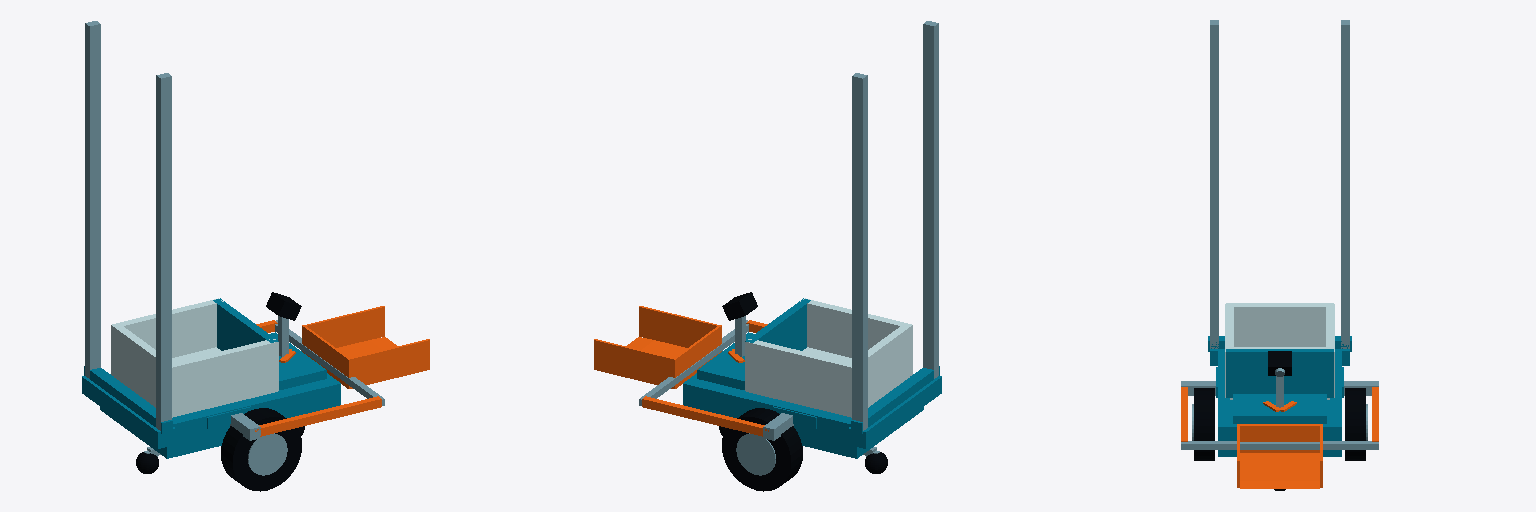
URDF robot description (collector_basket_lift_v2):
<?xml version='1.0' encoding='utf8'?>
<robot name="collector_basket_lift_v2">
  <material name="body">
    <color rgba="0.03 0.53 0.65 1" />
  </material>
  <material name="basket">
    <color rgba="0.80 0.91 0.93 1" />
  </material>
  <material name="orange">
    <color rgba="1.0 0.44 0.10 1" />
  </material>
  <material name="rubber">
    <color rgba="0.045 0.06 0.08 1" />
  </material>
  <material name="hub">
    <color rgba="0.50 0.65 0.70 1" />
  </material>
  <link name="base_link">
    <inertial>
      <origin xyz="-0.025 0 0" />
      <mass value="7.0" />
      <inertia ixx="0.087" ixy="0" ixz="0" iyy="0.184" iyz="0" izz="0.256" />
    </inertial>
    <visual name="chassis">
      <origin xyz="0 0 -0.025" />
      <geometry>
        <box size="0.55 0.37 0.10" />
      </geometry>
      <material name="body" />
    </visual>
    <collision name="chassis_collision">
      <origin xyz="0 0 -0.025" />
      <geometry>
        <box size="0.55 0.37 0.10" />
      </geometry>
    </collision>
    <visual name="arm_pivot_shaft">
      <origin xyz="-0.06 0 -0.005" />
      <geometry>
        <box size="0.035 0.59 0.035" />
      </geometry>
      <material name="hub" />
    </visual>
    <visual name="front_deck">
      <origin xyz="0.18 0 0.035" />
      <geometry>
        <box size="0.15 0.28 0.035" />
      </geometry>
      <material name="body" />
    </visual>
    <visual name="camera_stand">
      <origin xyz="0.20 0 0.11" />
      <geometry>
        <box size="0.022 0.022 0.14" />
      </geometry>
      <material name="hub" />
    </visual>
    <visual name="onboard_camera">
      <origin xyz="0.20 0 0.20" rpy="0 0.48869219 0" />
      <geometry>
        <box size="0.06 0.07 0.045" />
      </geometry>
      <material name="rubber" />
    </visual>
    <visual name="camera_lens">
      <origin xyz="0.231 0 0.1835" rpy="0 2.05948852 0" />
      <geometry>
        <cylinder radius="0.014" length="0.012" />
      </geometry>
      <material name="hub" />
    </visual>
    <visual name="direction_arrow_left">
      <origin xyz="0.20 0.023 0.057" rpy="0 0 -0.60" />
      <geometry>
        <box size="0.07 0.018 0.006" />
      </geometry>
      <material name="orange" />
    </visual>
    <visual name="direction_arrow_right">
      <origin xyz="0.20 -0.023 0.057" rpy="0 0 0.60" />
      <geometry>
        <box size="0.07 0.018 0.006" />
      </geometry>
      <material name="orange" />
    </visual>
  </link>
  <link name="left_wheel">
    <inertial>
      <mass value="0.35" />
      <inertia ixx="0.00118" ixy="0" ixz="0" iyy="0.00212" iyz="0" izz="0.00118" />
    </inertial>
    <visual>
      <origin rpy="1.57079632679 0 0" />
      <geometry>
        <cylinder radius="0.11" length="0.065" />
      </geometry>
      <material name="rubber" />
    </visual>
    <visual>
      <origin xyz="0 0.034 0" rpy="1.57079632679 0 0" />
      <geometry>
        <cylinder radius="0.062" length="0.004" />
      </geometry>
      <material name="hub" />
    </visual>
    <collision>
      <origin rpy="1.57079632679 0 0" />
      <geometry>
        <mesh filename="wheel_collision_128.obj" scale="1 1 1" />
      </geometry>
    </collision>
  </link>
  <joint name="left_wheel_joint" type="continuous">
    <parent link="base_link" />
    <child link="left_wheel" />
    <origin xyz="0 0.225 -0.095" />
    <axis xyz="0 1 0" />
    <limit effort="12" velocity="14" />
    <dynamics damping="0.05" friction="0.01" />
  </joint>
  <link name="right_wheel">
    <inertial>
      <mass value="0.35" />
      <inertia ixx="0.00118" ixy="0" ixz="0" iyy="0.00212" iyz="0" izz="0.00118" />
    </inertial>
    <visual>
      <origin rpy="1.57079632679 0 0" />
      <geometry>
        <cylinder radius="0.11" length="0.065" />
      </geometry>
      <material name="rubber" />
    </visual>
    <visual>
      <origin xyz="0 -0.034 0" rpy="1.57079632679 0 0" />
      <geometry>
        <cylinder radius="0.062" length="0.004" />
      </geometry>
      <material name="hub" />
    </visual>
    <collision>
      <origin rpy="1.57079632679 0 0" />
      <geometry>
        <mesh filename="wheel_collision_128.obj" scale="1 1 1" />
      </geometry>
    </collision>
  </link>
  <joint name="right_wheel_joint" type="continuous">
    <parent link="base_link" />
    <child link="right_wheel" />
    <origin xyz="0 -0.225 -0.095" />
    <axis xyz="0 1 0" />
    <limit effort="12" velocity="14" />
    <dynamics damping="0.05" friction="0.01" />
  </joint>
  <link name="shovel_arm">
    <inertial>
      <origin xyz="0.20 0 0" />
      <mass value="0.55" />
      <inertia ixx="0.0447" ixy="0" ixz="0" iyy="0.00735" iyz="0" izz="0.052" />
    </inertial>
    <visual name="left_arm">
      <origin xyz="0.20 0.285 0" />
      <geometry>
        <box size="0.40 0.02 0.025" />
      </geometry>
      <material name="orange" />
    </visual>
    <collision name="left_arm_collision">
      <origin xyz="0.20 0.285 0" />
      <geometry>
        <box size="0.40 0.02 0.025" />
      </geometry>
    </collision>
    <visual name="right_arm">
      <origin xyz="0.20 -0.285 0" />
      <geometry>
        <box size="0.40 0.02 0.025" />
      </geometry>
      <material name="orange" />
    </visual>
    <collision name="right_arm_collision">
      <origin xyz="0.20 -0.285 0" />
      <geometry>
        <box size="0.40 0.02 0.025" />
      </geometry>
    </collision>
    <visual name="bucket_pivot_shaft">
      <origin xyz="0.40 0 0" />
      <geometry>
        <box size="0.02 0.59 0.02" />
      </geometry>
      <material name="hub" />
    </visual>
  </link>
  <joint name="shovel_lift_joint" type="revolute">
    <parent link="base_link" />
    <child link="shovel_arm" />
    <origin xyz="-0.06 0 -0.005" />
    <axis xyz="0 -1 0" />
    <limit lower="-0.48" upper="2.25" effort="14" velocity="1.5" />
    <dynamics damping="0.08" friction="0.01" />
  </joint>
  <link name="shovel_bucket">
    <inertial>
      <origin xyz="0.12 0 0.005" />
      <mass value="0.30" />
      <inertia ixx="0.0020" ixy="0" ixz="0" iyy="0.0020" iyz="0" izz="0.0032" />
    </inertial>
    <visual name="shovel_floor">
      <origin xyz="0 0 0" />
      <geometry>
        <mesh filename="collector_beveled_floor.obj" scale="1 1 1" />
      </geometry>
      <material name="orange" />
    </visual>
    <collision name="shovel_floor_collision">
      <origin xyz="0 0 0" />
      <geometry>
        <mesh filename="collector_beveled_floor.obj" scale="1 1 1" />
      </geometry>
    </collision>
    <visual name="shovel_back">
      <origin xyz="-0.004 0 0.020" />
      <geometry>
        <box size="0.008 0.256 0.09" />
      </geometry>
      <material name="orange" />
    </visual>
    <collision name="shovel_back_collision">
      <origin xyz="-0.004 0 0.020" />
      <geometry>
        <box size="0.008 0.256 0.09" />
      </geometry>
    </collision>
    <visual name="shovel_left">
      <origin xyz="0.125 0.124 0.020" />
      <geometry>
        <box size="0.25 0.008 0.09" />
      </geometry>
      <material name="orange" />
    </visual>
    <collision name="shovel_left_collision">
      <origin xyz="0.125 0.124 0.020" />
      <geometry>
        <box size="0.25 0.008 0.09" />
      </geometry>
    </collision>
    <visual name="shovel_right">
      <origin xyz="0.125 -0.124 0.020" />
      <geometry>
        <box size="0.25 0.008 0.09" />
      </geometry>
      <material name="orange" />
    </visual>
    <collision name="shovel_right_collision">
      <origin xyz="0.125 -0.124 0.020" />
      <geometry>
        <box size="0.25 0.008 0.09" />
      </geometry>
    </collision>
  </link>
  <joint name="shovel_tilt_joint" type="revolute">
    <parent link="shovel_arm" />
    <child link="shovel_bucket" />
    <origin xyz="0.40 0 0" />
    <axis xyz="0 -1 0" />
    <limit lower="-3.10" upper="0.85" effort="8" velocity="2.0" />
    <dynamics damping="0.04" friction="0.005" />
  </joint>
  <link name="front_caster_fork">
    <inertial>
      <origin xyz="-0.01 0 -0.015" />
      <mass value="0.02" />
      <inertia ixx="1e-05" ixy="0" ixz="0" iyy="1e-05" iyz="0" izz="1e-05" />
    </inertial>
    <visual>
      <origin xyz="-0.01 0 -0.015" />
      <geometry>
        <box size="0.035 0.018 0.035" />
      </geometry>
      <material name="hub" />
    </visual>
  </link>
  <joint name="front_caster_yaw" type="continuous">
    <parent link="front_caster_suspension_carrier" />
    <child link="front_caster_fork" />
    <origin xyz="0 0 0" />
    <axis xyz="0 0 1" />
    <limit effort="0.2" velocity="100" />
    <dynamics damping="0.0001" friction="0" />
  </joint>
  <link name="front_caster_wheel">
    <inertial>
      <origin xyz="0 0 0" />
      <mass value="0.04" />
      <inertia ixx="1.64e-05" ixy="0" ixz="0" iyy="1.64e-05" iyz="0" izz="1.64e-05" />
    </inertial>
    <visual>
      <geometry>
        <sphere radius="0.032" />
      </geometry>
      <material name="rubber" />
    </visual>
    <collision>
      <geometry>
        <sphere radius="0.032" />
      </geometry>
    </collision>
  </link>
  <joint name="front_caster_roll" type="continuous">
    <parent link="front_caster_fork" />
    <child link="front_caster_wheel" />
    <origin xyz="-0.02 0 -0.030" />
    <axis xyz="0 1 0" />
    <limit effort="0.2" velocity="100" />
    <dynamics damping="0.0001" friction="0" />
  </joint>
  <link name="rear_caster_fork">
    <inertial>
      <origin xyz="-0.01 0 -0.015" />
      <mass value="0.02" />
      <inertia ixx="1e-05" ixy="0" ixz="0" iyy="1e-05" iyz="0" izz="1e-05" />
    </inertial>
    <visual>
      <origin xyz="-0.01 0 -0.015" />
      <geometry>
        <box size="0.035 0.018 0.035" />
      </geometry>
      <material name="hub" />
    </visual>
  </link>
  <joint name="rear_caster_yaw" type="continuous">
    <parent link="rear_caster_suspension_carrier" />
    <child link="rear_caster_fork" />
    <origin xyz="0 0 0" />
    <axis xyz="0 0 1" />
    <limit effort="0.2" velocity="100" />
    <dynamics damping="0.0001" friction="0" />
  </joint>
  <link name="rear_caster_wheel">
    <inertial>
      <origin xyz="0 0 0" />
      <mass value="0.04" />
      <inertia ixx="1.64e-05" ixy="0" ixz="0" iyy="1.64e-05" iyz="0" izz="1.64e-05" />
    </inertial>
    <visual>
      <geometry>
        <sphere radius="0.032" />
      </geometry>
      <material name="rubber" />
    </visual>
    <collision>
      <geometry>
        <sphere radius="0.032" />
      </geometry>
    </collision>
  </link>
  <joint name="rear_caster_roll" type="continuous">
    <parent link="rear_caster_fork" />
    <child link="rear_caster_wheel" />
    <origin xyz="-0.02 0 -0.030" />
    <axis xyz="0 1 0" />
    <limit effort="0.2" velocity="100" />
    <dynamics damping="0.0001" friction="0" />
  </joint>
  <link name="refill_mast">
    <inertial>
      <origin xyz="-.29 0 .55" />
      <mass value="1.0" />
      <inertia ixx="0.11260833333333335" iyy="0.09760833333333334" izz="0.015816666666666663" ixy="0" ixz="0" iyz="0" />
    </inertial>
    <visual name="mast_visual">
      <origin xyz="-0.29 -0.195 0.55" />
      <geometry>
        <box size="0.035 0.025 1.08" />
      </geometry>
      <material name="hub" />
    </visual>
    <collision name="mast_collision">
      <origin xyz="-0.29 -0.195 0.55" />
      <geometry>
        <box size="0.035 0.025 1.08" />
      </geometry>
    </collision>
    <visual name="mast_visual">
      <origin xyz="-0.29 0.195 0.55" />
      <geometry>
        <box size="0.035 0.025 1.08" />
      </geometry>
      <material name="hub" />
    </visual>
    <collision name="mast_collision">
      <origin xyz="-0.29 0.195 0.55" />
      <geometry>
        <box size="0.035 0.025 1.08" />
      </geometry>
    </collision>
    <visual name="base_brace_visual">
      <origin xyz="-0.29 0 0.035" />
      <geometry>
        <box size="0.035 0.43 0.035" />
      </geometry>
      <material name="body" />
    </visual>
    <collision name="base_brace_collision">
      <origin xyz="-0.29 0 0.035" />
      <geometry>
        <box size="0.035 0.43 0.035" />
      </geometry>
    </collision>
  </link>
  <joint name="refill_mast_fixed" type="fixed">
    <parent link="base_link" />
    <child link="refill_mast" />
    <origin xyz="0 0 0" />
  </joint>
  <link name="refill_carriage">
    <inertial>
      <origin xyz="-.21 0 -.04" />
      <mass value="0.12" />
      <inertia ixx="0.0017889999999999998" iyy="5e-05" izz="0.0017889999999999998" ixy="0" ixz="0" iyz="0" />
    </inertial>
    <visual name="carriage_visual">
      <origin xyz="-0.21 0 -0.04" />
      <geometry>
        <box size="0.055 0.42 0.05" />
      </geometry>
      <material name="body" />
    </visual>
  </link>
  <joint name="refill_lift_joint" type="prismatic">
    <parent link="base_link" />
    <child link="refill_carriage" />
    <origin xyz="-0.08 0 0.04" />
    <axis xyz="0 0 1" />
    <limit lower="0" upper="1.04" effort="120" velocity="0.16" />
    <dynamics damping=".1" friction="0" />
  </joint>
  <link name="refill_slide">
    <inertial>
      <origin xyz="0 0 -.035" />
      <mass value="0.18" />
      <inertia ixx="0.002184375" iyy="0.0005043749999999999" izz="0.002652" ixy="0" ixz="0" iyz="0" />
    </inertial>
    <visual name="tilt_cradle_visual">
      <origin xyz="0 0 -0.035" />
      <geometry>
        <box size="0.14 0.38 0.035" />
      </geometry>
      <material name="body" />
    </visual>
  </link>
  <joint name="refill_slide_joint" type="prismatic">
    <parent link="refill_carriage" />
    <child link="refill_slide" />
    <origin xyz="0 0 0" />
    <axis xyz="-1 0 0" />
    <limit lower="0" upper="0.7" effort="60" velocity="0.14" />
    <dynamics damping=".1" friction="0" />
  </joint>
  <link name="refill_basket">
    <inertial>
      <origin xyz="0 0 .06" />
      <mass value="0.45" />
      <inertia ixx="0.0043349999999999994" iyy="0.005295000000000001" izz="0.007710000000000001" ixy="0" ixz="0" iyz="0" />
    </inertial>
    <visual name="basket_floor">
      <origin xyz="0.0 0.0 0.0" />
      <geometry>
        <box size="0.34 0.30 0.025" />
      </geometry>
      <material name="basket" />
    </visual>
    <collision name="basket_floor_collision">
      <origin xyz="0.0 0.0 0.0" />
      <geometry>
        <box size="0.34 0.30 0.025" />
      </geometry>
    </collision>
    <visual name="basket_left">
      <origin xyz="0.0 0.15 0.07" />
      <geometry>
        <box size="0.34 0.025 0.15" />
      </geometry>
      <material name="basket" />
    </visual>
    <collision name="basket_left_collision">
      <origin xyz="0.0 0.15 0.07" />
      <geometry>
        <box size="0.34 0.025 0.15" />
      </geometry>
    </collision>
    <visual name="basket_right">
      <origin xyz="0.0 -0.15 0.07" />
      <geometry>
        <box size="0.34 0.025 0.15" />
      </geometry>
      <material name="basket" />
    </visual>
    <collision name="basket_right_collision">
      <origin xyz="0.0 -0.15 0.07" />
      <geometry>
        <box size="0.34 0.025 0.15" />
      </geometry>
    </collision>
    <visual name="basket_front">
      <origin xyz="0.16 0.0 0.07" />
      <geometry>
        <box size="0.025 0.32 0.15" />
      </geometry>
      <material name="body" />
    </visual>
    <collision name="basket_front_collision">
      <origin xyz="0.16 0.0 0.07" />
      <geometry>
        <box size="0.025 0.32 0.15" />
      </geometry>
    </collision>
  </link>
  <link name="refill_gate">
    <inertial>
      <origin xyz="0 0 0" />
      <mass value="0.08" />
      <inertia ixx="0.0008326666666666668" iyy="0.00015416666666666668" izz="0.0006868333333333335" ixy="0" ixz="0" iyz="0" />
    </inertial>
    <visual name="basket_back">
      <origin xyz="2.7755575615628914e-17 0.0 0.0" />
      <geometry>
        <box size="0.025 0.32 0.15" />
      </geometry>
      <material name="basket" />
    </visual>
    <collision name="basket_back_collision">
      <origin xyz="2.7755575615628914e-17 0.0 0.0" />
      <geometry>
        <box size="0.025 0.32 0.15" />
      </geometry>
    </collision>
  </link>
  <joint name="refill_tip_joint" type="revolute">
    <parent link="refill_slide" />
    <child link="refill_basket" />
    <origin xyz="0 0 0" />
    <axis xyz="0 -1 0" />
    <limit lower="0" upper="1.1" effort="18" velocity="0.45" />
    <dynamics damping=".1" friction="0" />
  </joint>
  <joint name="refill_gate_joint" type="prismatic">
    <parent link="refill_basket" />
    <child link="refill_gate" />
    <origin xyz="-0.16 0 0.07" />
    <axis xyz="0 0 1" />
    <limit lower="0" upper="0.2" effort="25" velocity="0.14" />
    <dynamics damping=".1" friction="0" />
  </joint>
  <link name="front_caster_suspension_carrier">
    <inertial>
      <mass value="0.0405" />
      <origin xyz="0 0 0" />
      <inertia ixx="3.4593750000000002e-06" iyy="4.3875e-06" izz="5.146875000000001e-06" ixy="0" ixz="0" iyz="0" />
    </inertial>
    <visual name="front_suspension_carrier">
      <geometry>
        <box size=".03 .025 .02" />
      </geometry>
      <material name="hub" />
    </visual>
  </link>
  <joint name="front_caster_suspension_joint" type="prismatic">
    <parent link="base_link" />
    <child link="front_caster_suspension_carrier" />
    <origin xyz="0.25 0 -0.143" />
    <axis xyz="0 0 1" />
    <limit lower="-.025" upper=".025" effort="120" velocity="1.0" />
    <dynamics damping="0" friction="0" />
  </joint>
  <link name="rear_caster_suspension_carrier">
    <inertial>
      <mass value="0.0405" />
      <origin xyz="0 0 0" />
      <inertia ixx="3.4593750000000002e-06" iyy="4.3875e-06" izz="5.146875000000001e-06" ixy="0" ixz="0" iyz="0" />
    </inertial>
    <visual name="rear_suspension_carrier">
      <geometry>
        <box size=".03 .025 .02" />
      </geometry>
      <material name="hub" />
    </visual>
  </link>
  <joint name="rear_caster_suspension_joint" type="prismatic">
    <parent link="base_link" />
    <child link="rear_caster_suspension_carrier" />
    <origin xyz="-0.21 0 -0.141" />
    <axis xyz="0 0 1" />
    <limit lower="-.025" upper=".025" effort="120" velocity="1.0" />
    <dynamics damping="0" friction="0" />
  </joint>
</robot>

--- Render facts (derived) ---
Views: 3 orthographic renders of the robot side by side, from view 1: azimuth 30°, elevation 25°; view 2: azimuth 150°, elevation 25°; view 3: azimuth 270°, elevation 25°.
Robot: collector_basket_lift_v2 — 16 links, 15 joints (3 revolute, 6 continuous, 5 prismatic, 1 fixed); root link base_link; default pose: all joints at 0.
Links seen in each view (by area): view 1: refill_mast, refill_basket, base_link, shovel_bucket, right_wheel, refill_gate, shovel_arm, refill_carriage; view 2: refill_mast, refill_basket, base_link, shovel_bucket, left_wheel, refill_gate, shovel_arm, refill_carriage; view 3: base_link, refill_mast, refill_basket, shovel_bucket, refill_gate, shovel_arm, left_wheel, right_wheel.
Boxes of the visible links, x1,y1,x2,y2 form: refill_mast: (84, 21, 172, 434); refill_basket: (112, 298, 278, 417); base_link: (100, 292, 340, 458); shovel_bucket: (302, 306, 429, 388); right_wheel: (221, 408, 301, 491); refill_gate: (111, 323, 174, 406); shovel_arm: (255, 320, 384, 436); refill_carriage: (82, 376, 175, 448); refill_mast: (851, 21, 939, 434); refill_basket: (745, 298, 911, 417); base_link: (683, 292, 923, 458); shovel_bucket: (594, 306, 721, 388); left_wheel: (722, 408, 802, 491); refill_gate: (848, 323, 912, 406); shovel_arm: (639, 320, 768, 436); refill_carriage: (848, 376, 941, 448); base_link: (1181, 349, 1378, 456); refill_mast: (1208, 20, 1351, 351); refill_basket: (1225, 304, 1334, 399); shovel_bucket: (1237, 424, 1322, 488); refill_gate: (1226, 303, 1333, 346); shovel_arm: (1181, 387, 1378, 449); left_wheel: (1345, 388, 1367, 460); right_wheel: (1192, 388, 1214, 460).
Size in the robot's own frame: 0.9075 by 0.59 by 1.29 metres.
Meshes: 1 distinct files referenced, 1 mesh visuals loaded (1 OBJ).
